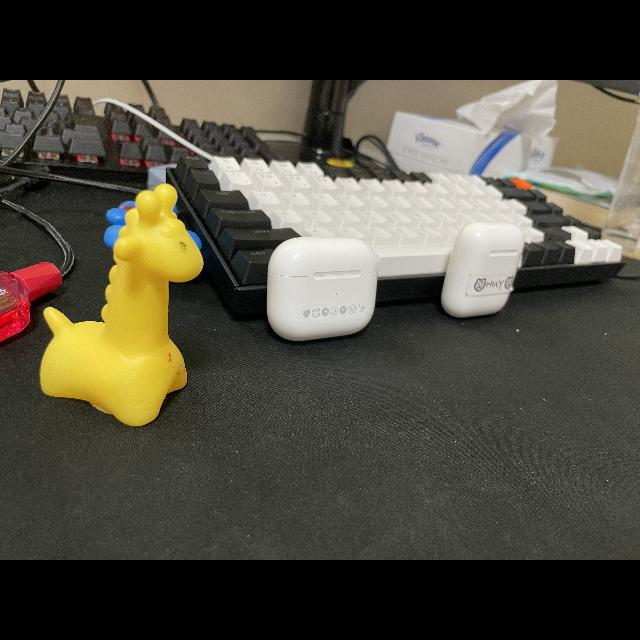airpod2: (439, 215, 525, 318)
airpod3: (257, 228, 383, 346)
